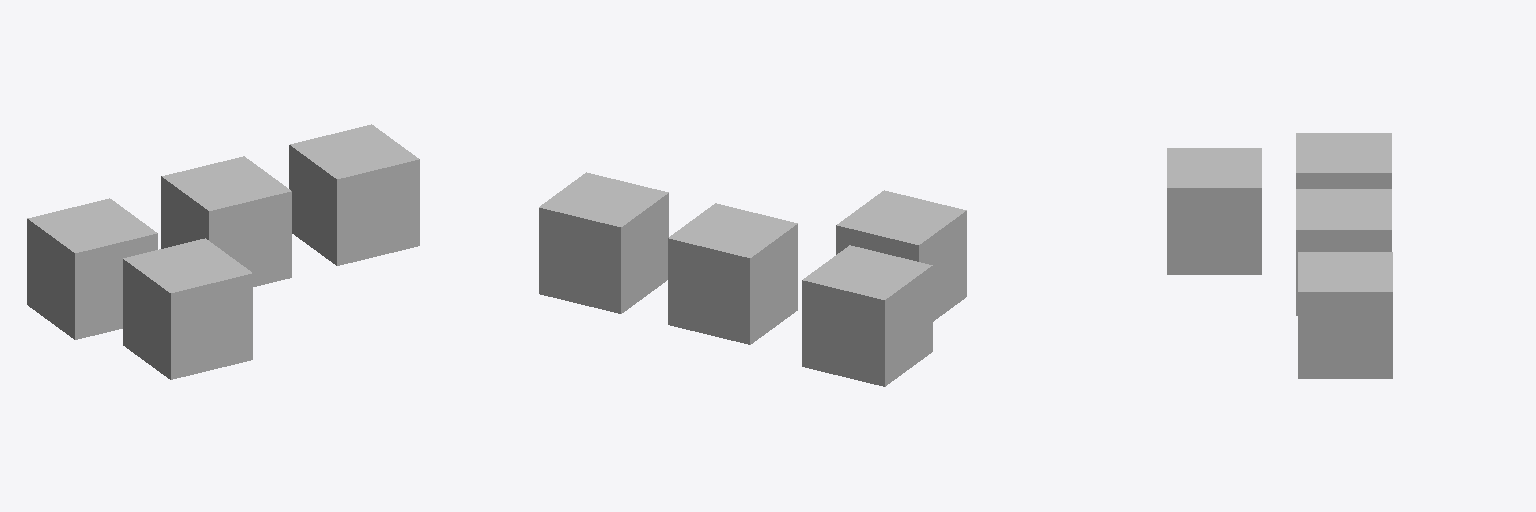
File: cubes.obj
3 views of the same model, side by side, from view 1: azimuth 30°, elevation 25°; view 2: azimuth 150°, elevation 25°; view 3: azimuth 270°, elevation 25° (orthographic).
Visible parts, largest first — view 1: Cube.001; view 2: Cube.001; view 3: Cube.001.
Part boxes in pixels (bbox=[...]): Cube.001: bbox=[27, 124, 419, 379]; Cube.001: bbox=[539, 172, 966, 386]; Cube.001: bbox=[1167, 133, 1392, 378].
Bounding box in the file's own units: 8.34 × 2.21 × 4.74.